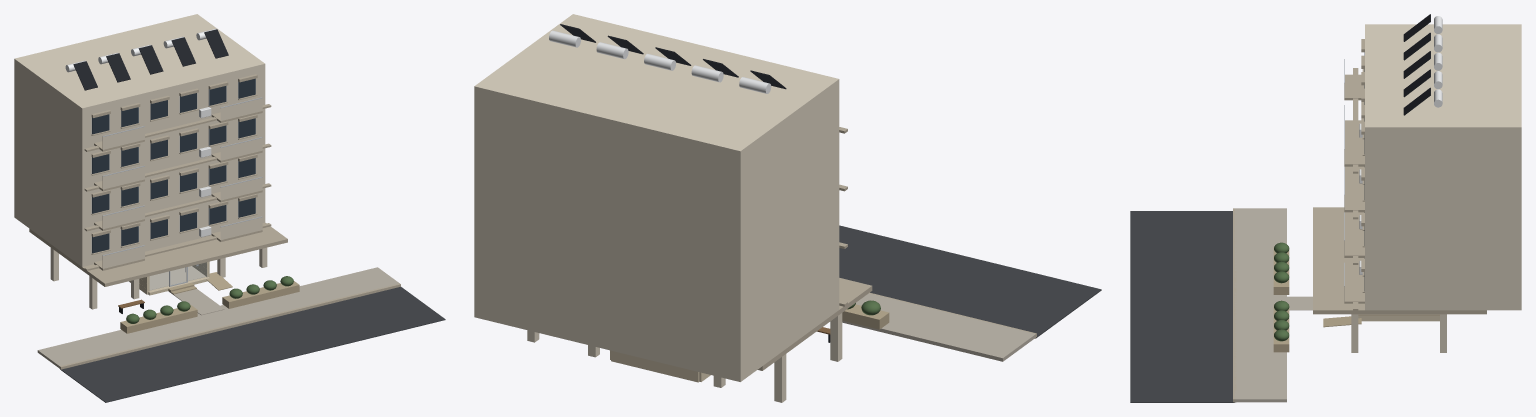
File: aptEntrance.glb
3 renders of one model, left to right at view 1: azimuth 30°, elevation 25°; view 2: azimuth 150°, elevation 25°; view 3: azimuth 270°, elevation 25°, orthographic. The views are drawn at different scales.
Visible parts, largest first — view 1: facade, road, sidewalk, slab, kerb, aptEntrance, pilotis, planterWallL, planterWallR, lobbyFloor, path, collector2 (+4 smaller); view 2: facade, road, sidewalk, pilotis, slab, lobbyBack, planterWallL; view 3: facade, road, sidewalk, slab, balcony (×5), aptEntrance, lobbyR, pilotis, kerb, path.
Boxes of the visible parts, box(x1,y1,x2,y2) form: facade: box(14, 14, 271, 270); road: box(60, 287, 445, 402); sidewalk: box(37, 267, 399, 368); slab: box(29, 222, 287, 286); kerb: box(59, 283, 400, 369); aptEntrance: box(126, 276, 293, 323); pilotis: box(50, 247, 267, 309); planterWallL: box(120, 305, 197, 333); planterWallR: box(222, 281, 299, 308); lobbyFloor: box(149, 266, 206, 290); path: box(170, 289, 224, 315); collector2: box(138, 45, 163, 74); facade: box(474, 14, 847, 381); road: box(839, 225, 1101, 338); sidewalk: box(842, 293, 1035, 361); pilotis: box(527, 313, 842, 402); slab: box(757, 278, 872, 370); lobbyBack: box(611, 350, 699, 382); planterWallL: box(842, 304, 889, 329); facade: box(1344, 24, 1521, 310); road: box(1130, 211, 1234, 402); sidewalk: box(1234, 208, 1286, 402); slab: box(1313, 207, 1486, 314); balcony (×5): box(1344, 74, 1364, 303); aptEntrance: box(1274, 242, 1289, 341); lobbyR: box(1358, 314, 1439, 321); pilotis: box(1351, 314, 1446, 352); kerb: box(1233, 208, 1236, 402); path: box(1274, 296, 1312, 310).
Bounding box in the file's own units: 26 × 16.04 × 22.5.
